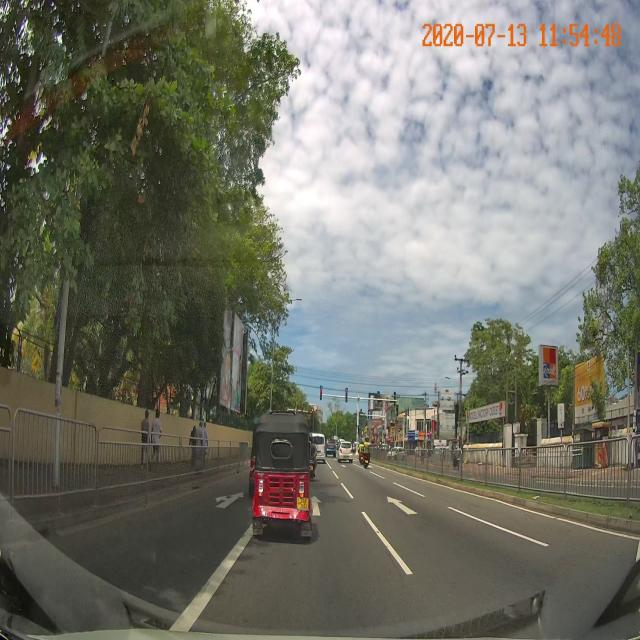Strelka vpered: (387, 496, 418, 515), (311, 496, 322, 516)
Strelka vpered - vlevo: (215, 492, 244, 509)
